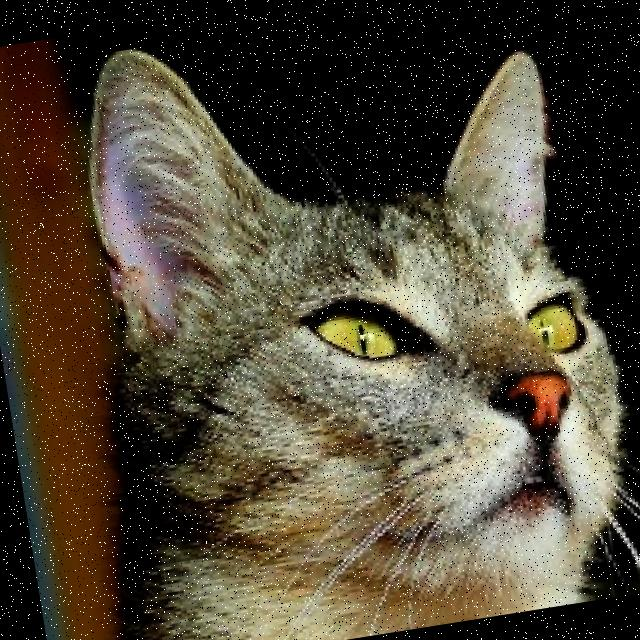Angry: (240, 224, 636, 602)
